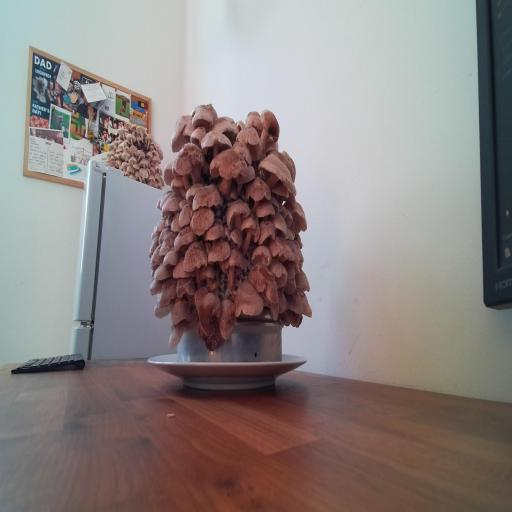Shiitake Mushroom: (194, 131, 262, 202), (238, 254, 293, 310), (184, 275, 231, 340), (249, 148, 307, 197), (209, 238, 257, 293), (228, 115, 273, 168), (175, 232, 217, 288), (217, 189, 258, 239), (180, 198, 224, 241), (170, 136, 207, 185), (164, 219, 205, 258), (278, 284, 321, 321), (233, 208, 266, 255), (281, 190, 312, 240), (241, 169, 275, 214), (204, 109, 245, 144), (167, 105, 193, 158), (262, 233, 302, 266), (264, 253, 295, 293), (162, 293, 199, 326), (238, 104, 272, 139), (188, 181, 227, 211), (227, 133, 260, 168), (234, 279, 264, 317), (199, 318, 228, 357), (229, 161, 262, 194), (151, 226, 183, 260), (276, 145, 303, 182), (266, 175, 296, 208), (217, 297, 238, 342), (260, 108, 280, 155), (180, 174, 208, 206), (172, 200, 200, 232), (199, 216, 230, 244), (267, 208, 292, 242), (204, 236, 234, 264), (186, 117, 210, 151), (201, 130, 232, 156), (291, 266, 314, 300), (285, 232, 306, 268), (156, 275, 179, 307), (189, 106, 217, 132), (225, 223, 250, 250), (276, 307, 306, 329), (147, 213, 169, 243), (152, 184, 175, 212), (168, 171, 190, 200), (160, 190, 182, 217), (166, 321, 186, 350), (190, 101, 219, 121), (146, 244, 166, 271), (177, 117, 199, 141), (174, 276, 198, 298), (151, 260, 176, 281), (172, 256, 195, 278), (153, 222, 175, 245), (256, 197, 276, 220), (258, 220, 276, 245), (192, 320, 210, 345), (144, 234, 162, 259), (151, 301, 174, 320), (252, 245, 272, 266), (180, 313, 202, 332), (279, 207, 297, 229), (283, 258, 300, 281), (268, 193, 283, 217), (273, 201, 291, 220), (163, 247, 180, 266), (148, 277, 163, 298), (283, 276, 298, 297), (162, 162, 175, 186), (170, 211, 181, 233), (180, 171, 192, 191), (278, 289, 288, 313), (270, 302, 280, 321), (204, 264, 215, 279), (236, 117, 246, 131)
